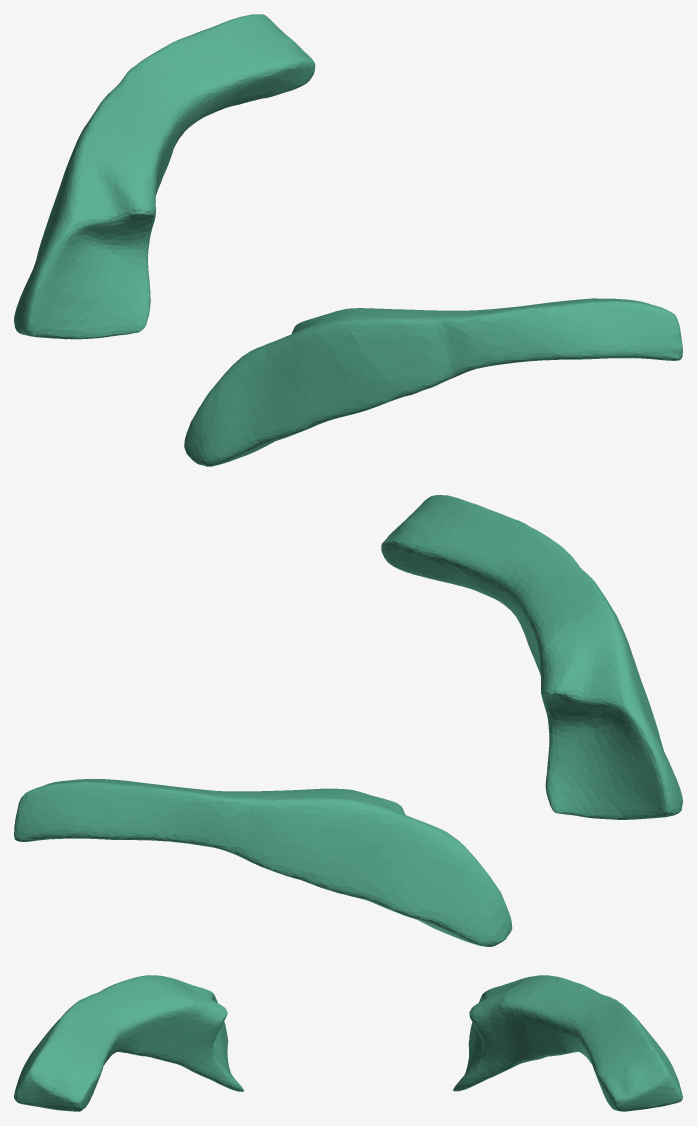
3 views of the same model, one above another, from view 1: azimuth 30°, elevation 25°; view 2: azimuth 150°, elevation 25°; view 3: azimuth 270°, elevation 25° (orthographic). The views are drawn at different scales.
Visible parts, largest first — view 1: 95.obj; view 2: 95.obj; view 3: 95.obj.
Boxes of the visible parts, x1,y1,x2,y2 form: 95.obj: [14, 14, 682, 466]; 95.obj: [14, 495, 682, 946]; 95.obj: [14, 975, 682, 1111].
Size of the model in its own units: 5150 by 2231 by 9950.
